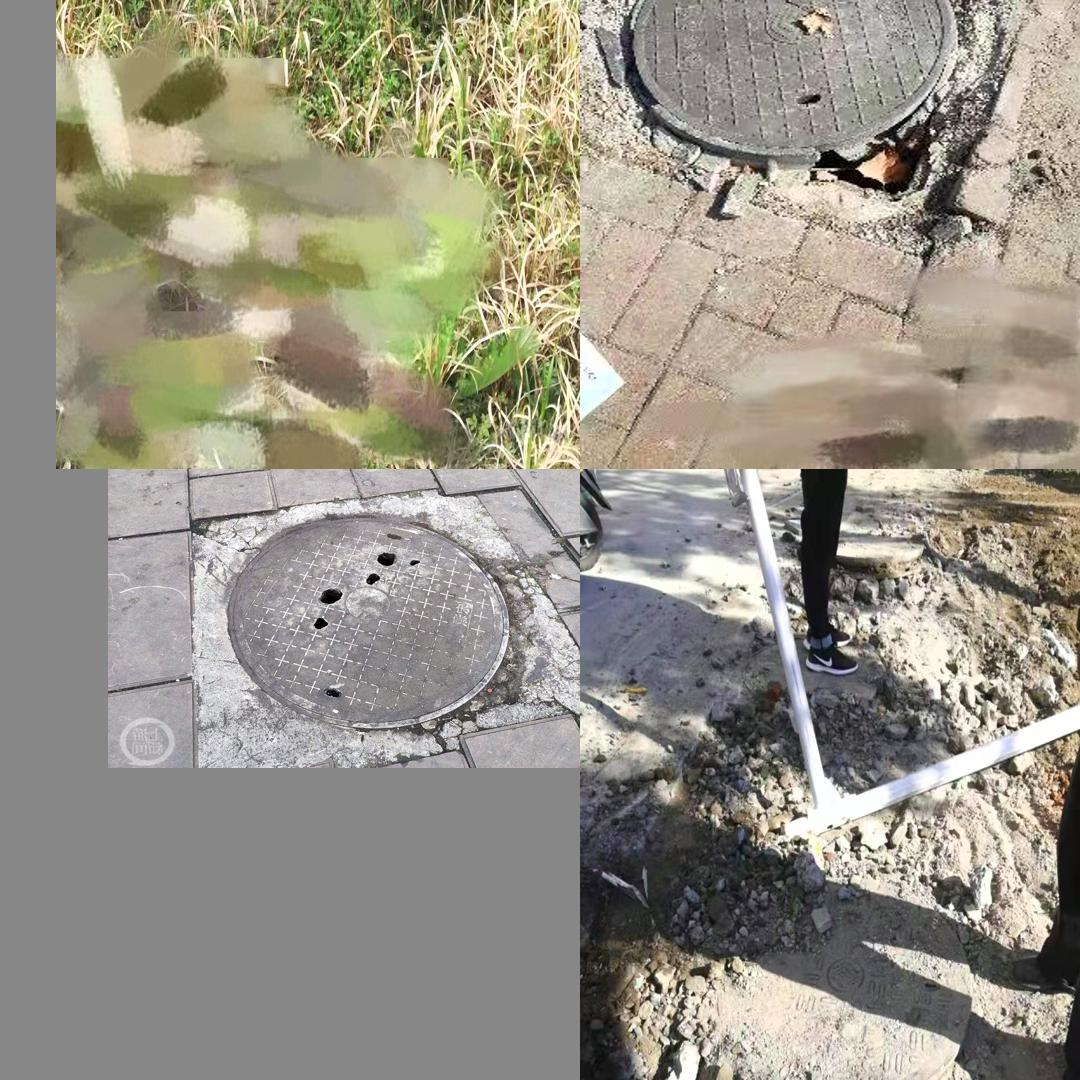circle: (178, 486, 568, 761), (579, 0, 1014, 189), (668, 873, 1006, 1080)
